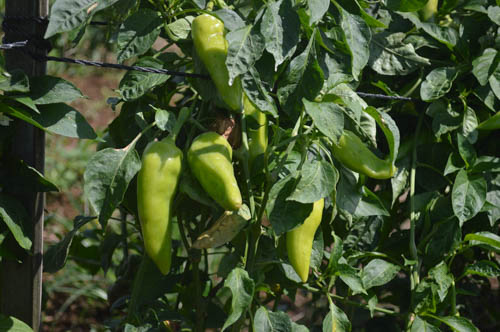ChiliPepper: (134, 141, 181, 278), (194, 16, 252, 117), (183, 132, 243, 211), (285, 190, 324, 287), (331, 132, 398, 177)
